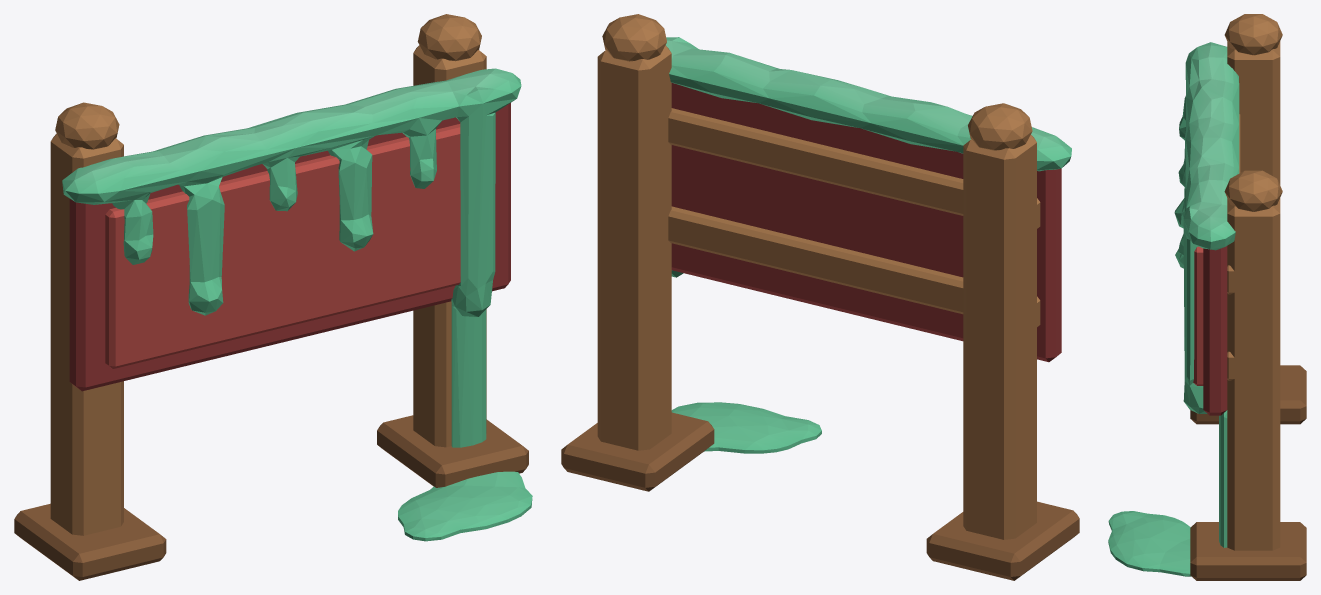
Rendered from ranch_goo_sign.fbx.
The picture shows the model from 3 angles, left to right: view 1: azimuth 30°, elevation 25°; view 2: azimuth 150°, elevation 25°; view 3: azimuth 270°, elevation 25°; orthographic projection. The views are drawn at different scales.
Visible parts, largest first — view 1: ranch_goo_sign; view 2: ranch_goo_sign; view 3: ranch_goo_sign.
Boxes of the visible parts, x1,y1,x2,y2 form: ranch_goo_sign: (14, 14, 532, 580); ranch_goo_sign: (561, 14, 1079, 580); ranch_goo_sign: (1108, 14, 1306, 580).
Size of the model in its own units: 8.8 by 8.21 by 3.75.
